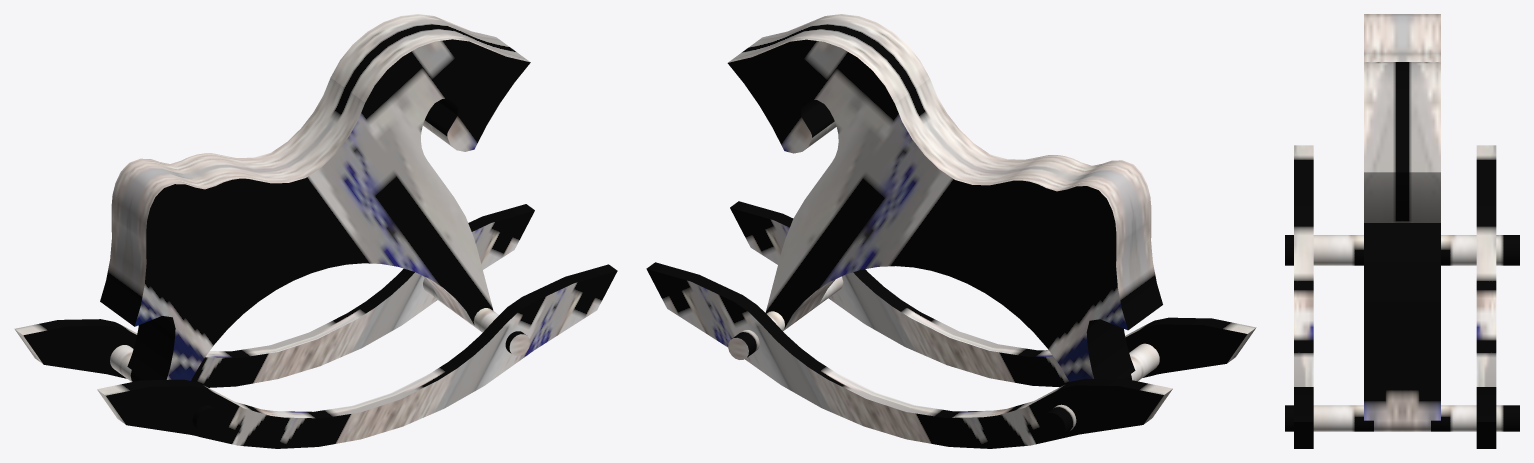
Rendered from RockingHorseSample.fbx.
The picture shows the model from 3 angles, left to right: view 1: azimuth 30°, elevation 25°; view 2: azimuth 150°, elevation 25°; view 3: azimuth 270°, elevation 25°; orthographic projection. The views are drawn at different scales.
Visible parts, largest first — view 1: 개체_3, 개체_4, 개체_5, 개체_1; view 2: 개체_1, 개체_5, 개체_4, 개체_3; view 3: 개체_1, 개체_3, 개체_5, 개체_4.
Part boxes in pixels (box(x1,y1,x2,y2)): 개체_3: box(117, 26, 530, 433); 개체_4: box(97, 264, 617, 448); 개체_5: box(14, 204, 534, 387); 개체_1: box(100, 14, 512, 381); 개체_1: box(727, 27, 1145, 438); 개체_5: box(646, 262, 1172, 448); 개체_4: box(730, 201, 1256, 387); 개체_3: box(745, 14, 1162, 381); 개체_1: box(1402, 14, 1519, 431); 개체_3: box(1285, 14, 1402, 431); 개체_5: box(1476, 145, 1496, 448); 개체_4: box(1294, 145, 1313, 448).
Size of the model in its own units: 33.21 by 21.62 by 11.92.
1 material, 1 textured.
